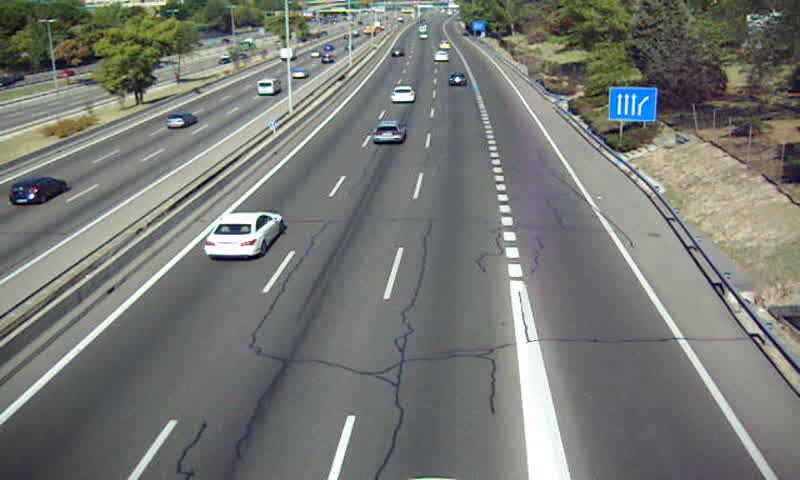car: (204, 214, 282, 257), (371, 120, 406, 146), (390, 86, 416, 106), (448, 72, 469, 88)
